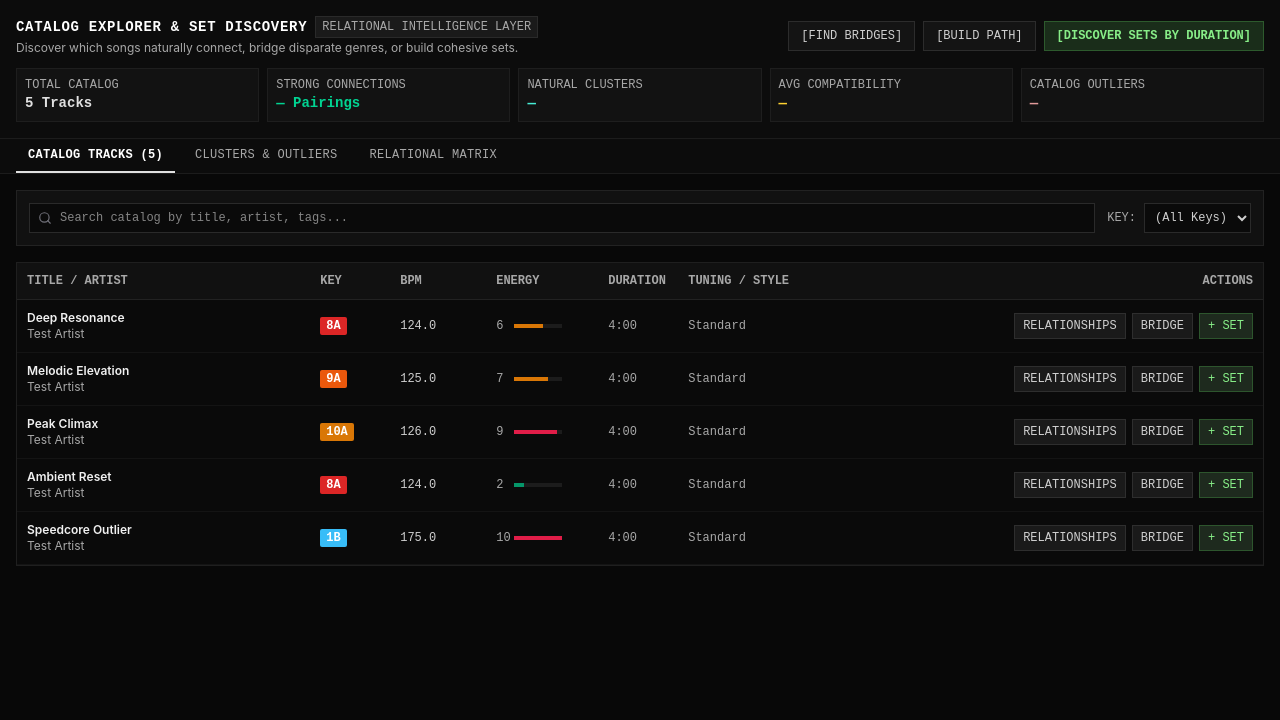
Test: CatalogExplorerView Component › opens BridgeDiscoveryModal and evaluates intermediate bridging routes
Click the button with test id "btn-find-bridges": click(852, 36) top-left (788, 21), bottom-right (915, 51)
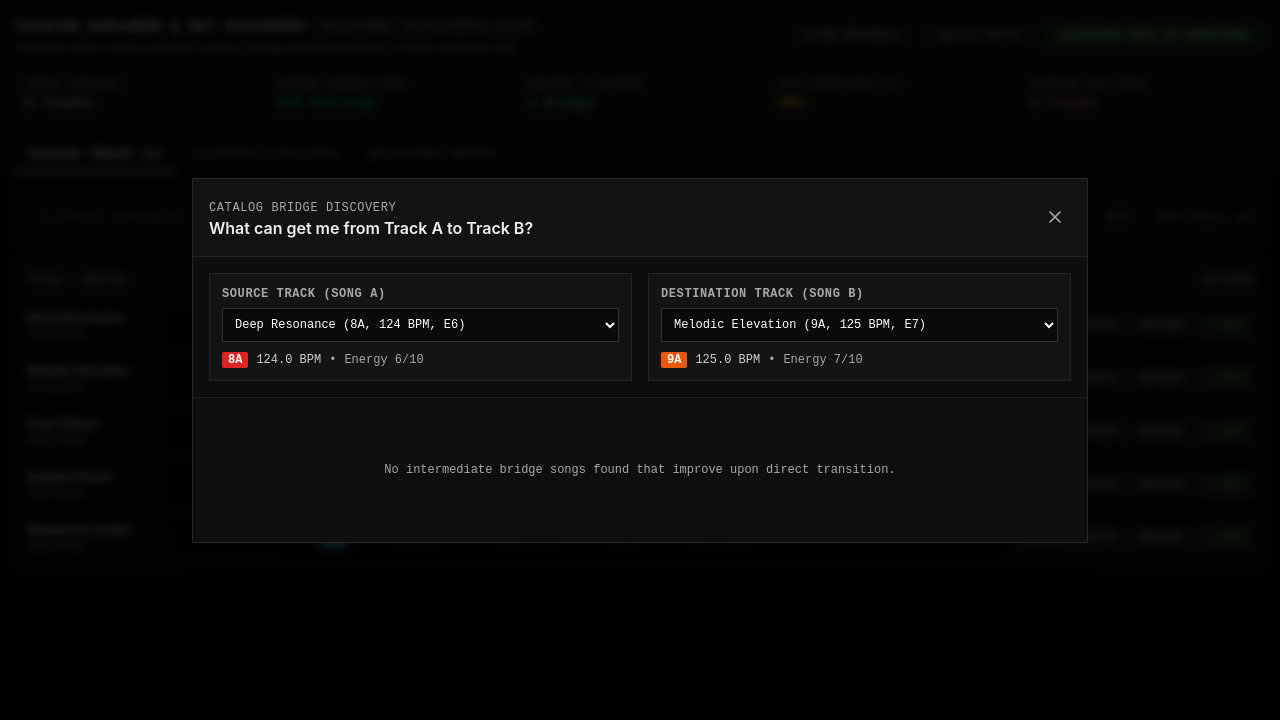
expect the element with test id "bridge-discovery-modal" is shown: met, box top-left (192, 178), bottom-right (1088, 542)
expect the text "CATALOG BRIDGE DISCOVERY" is shown: met, box top-left (209, 200), bottom-right (396, 214)
expect the dropdown with test id "select-song-a" is shown: met, box top-left (222, 308), bottom-right (619, 342)
